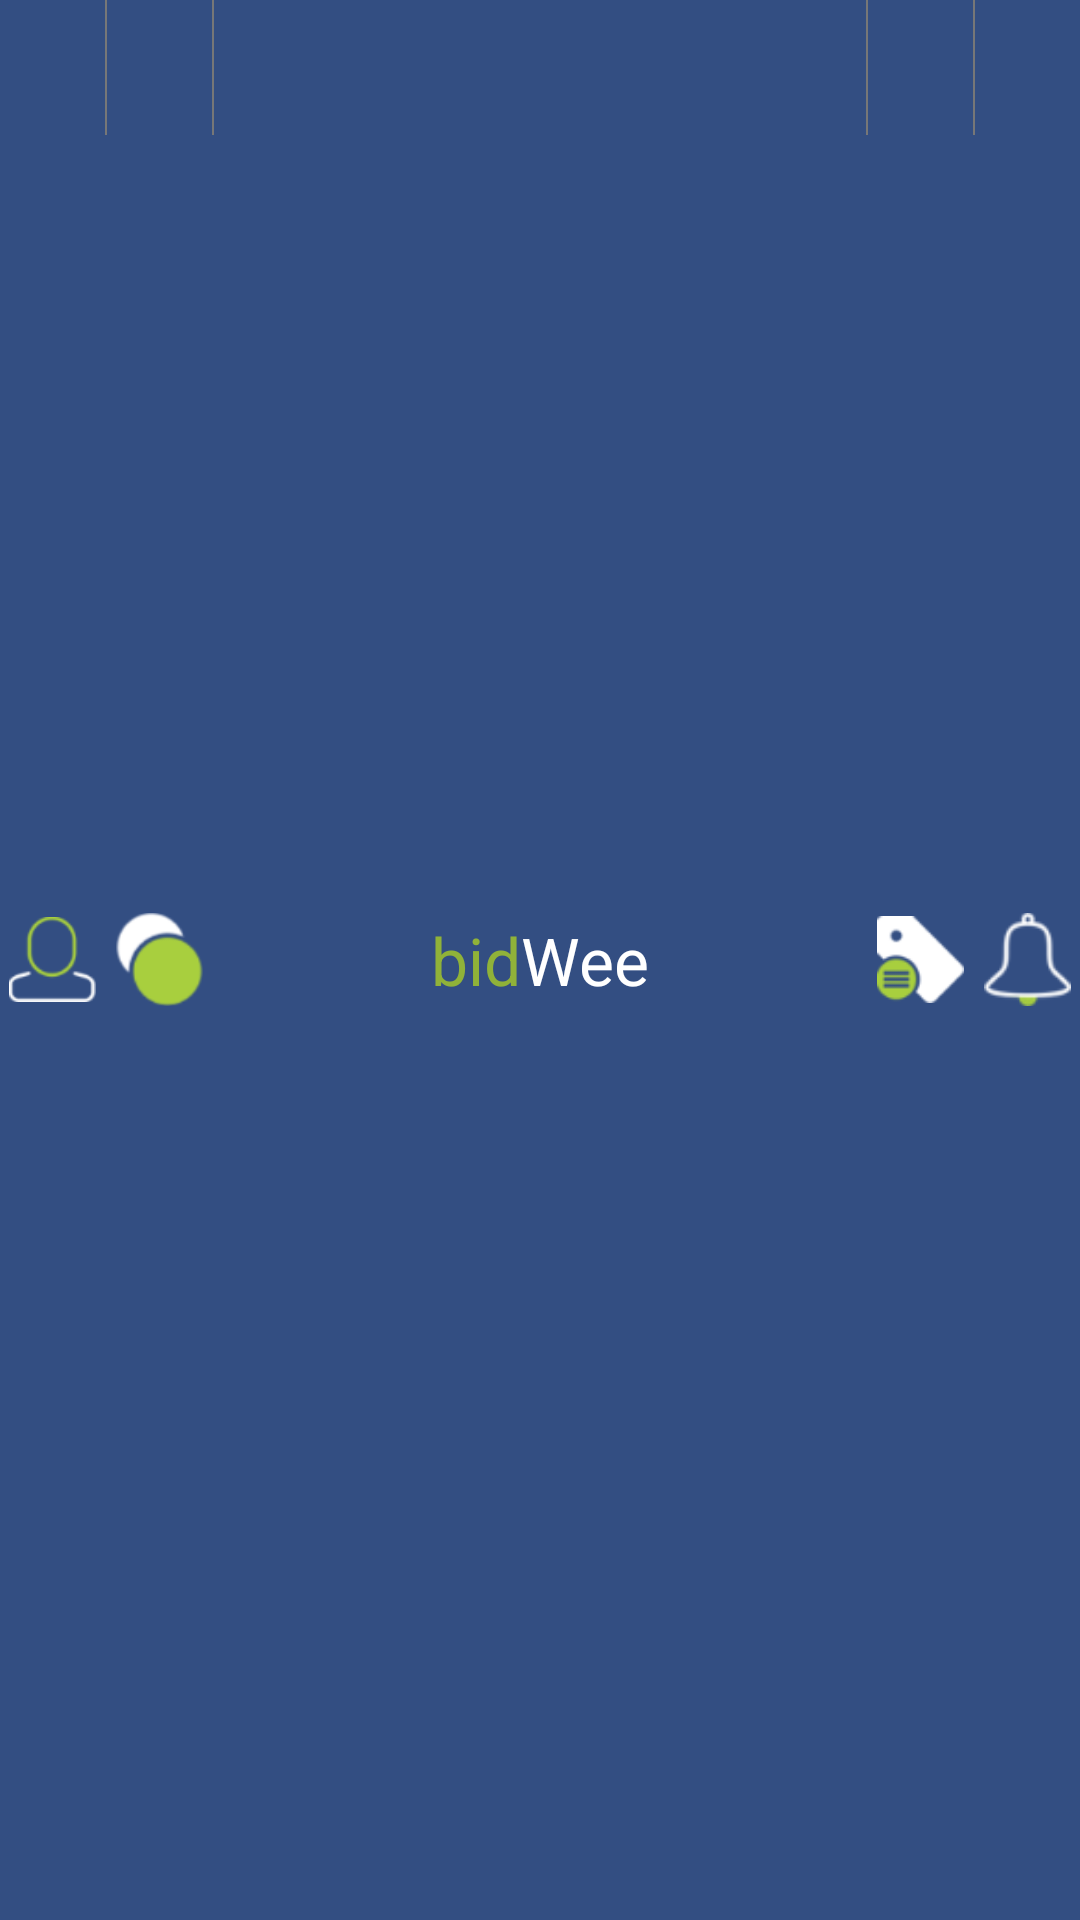

Where icons sit on this 1080px x 1920px app screen, as (x1, y1, x2, y2):
notifications: (984, 913, 1071, 1006)
profile: (9, 917, 96, 1002)
